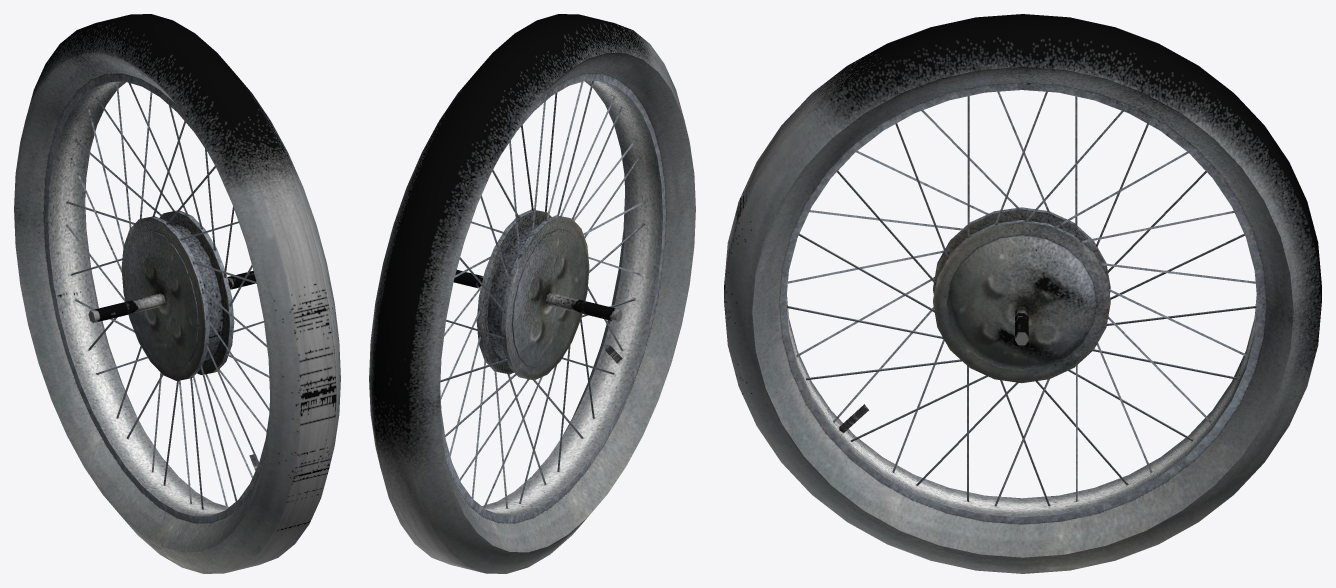
File: Tire.fbx
3 renders of one model, left to right at view 1: azimuth 30°, elevation 25°; view 2: azimuth 150°, elevation 25°; view 3: azimuth 270°, elevation 25°, orthographic. The views are drawn at different scales.
Visible parts, largest first — view 1: Tire; view 2: Tire; view 3: Tire.
Part boxes in pixels (x1,y1,x2,y2): Tire: (14, 14, 340, 573); Tire: (369, 14, 695, 573); Tire: (724, 14, 1321, 573).
Bounding box in the file's own units: 25.42 × 72.11 × 72.11.
